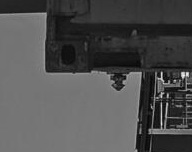twist_lock_2: (103, 68, 131, 97)
